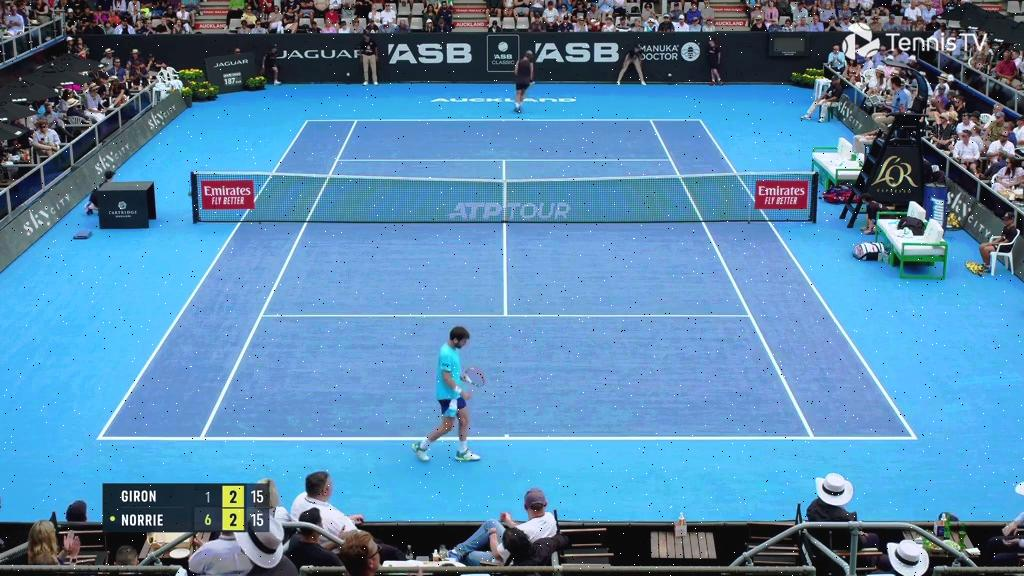tennis-court: (96, 120, 918, 440)
